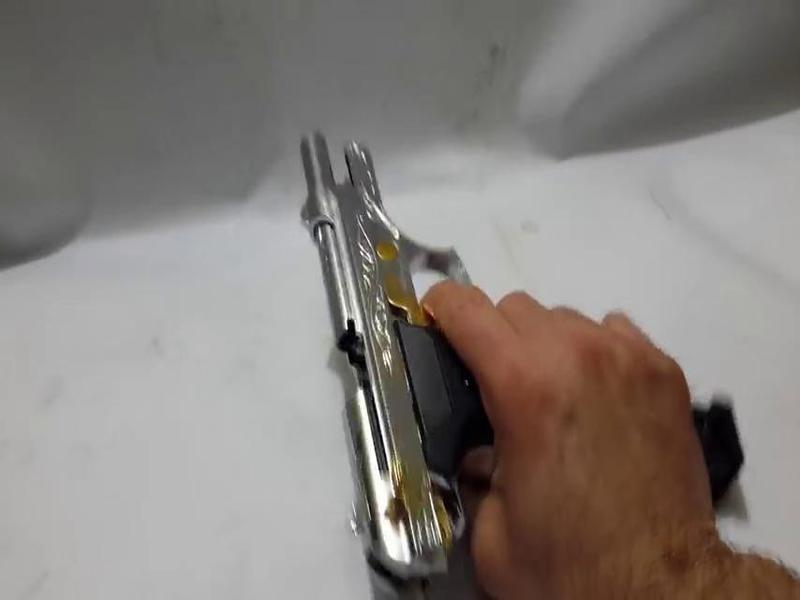Pistola: (281, 114, 600, 600)
